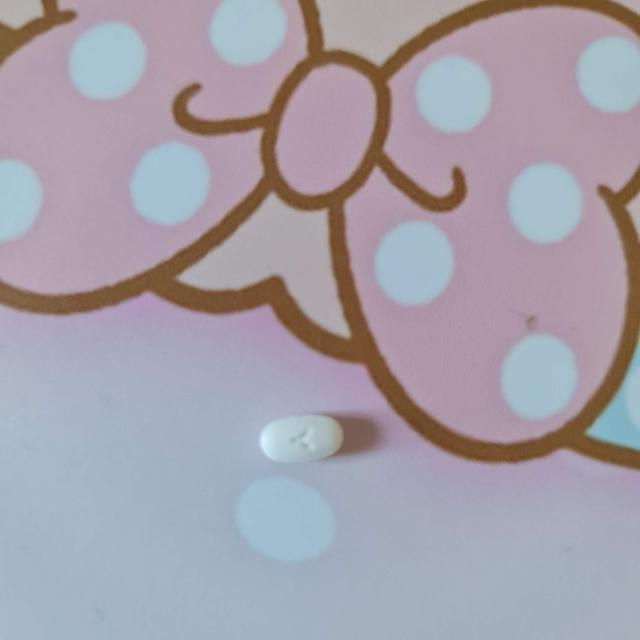pill: (257, 414, 342, 462)
